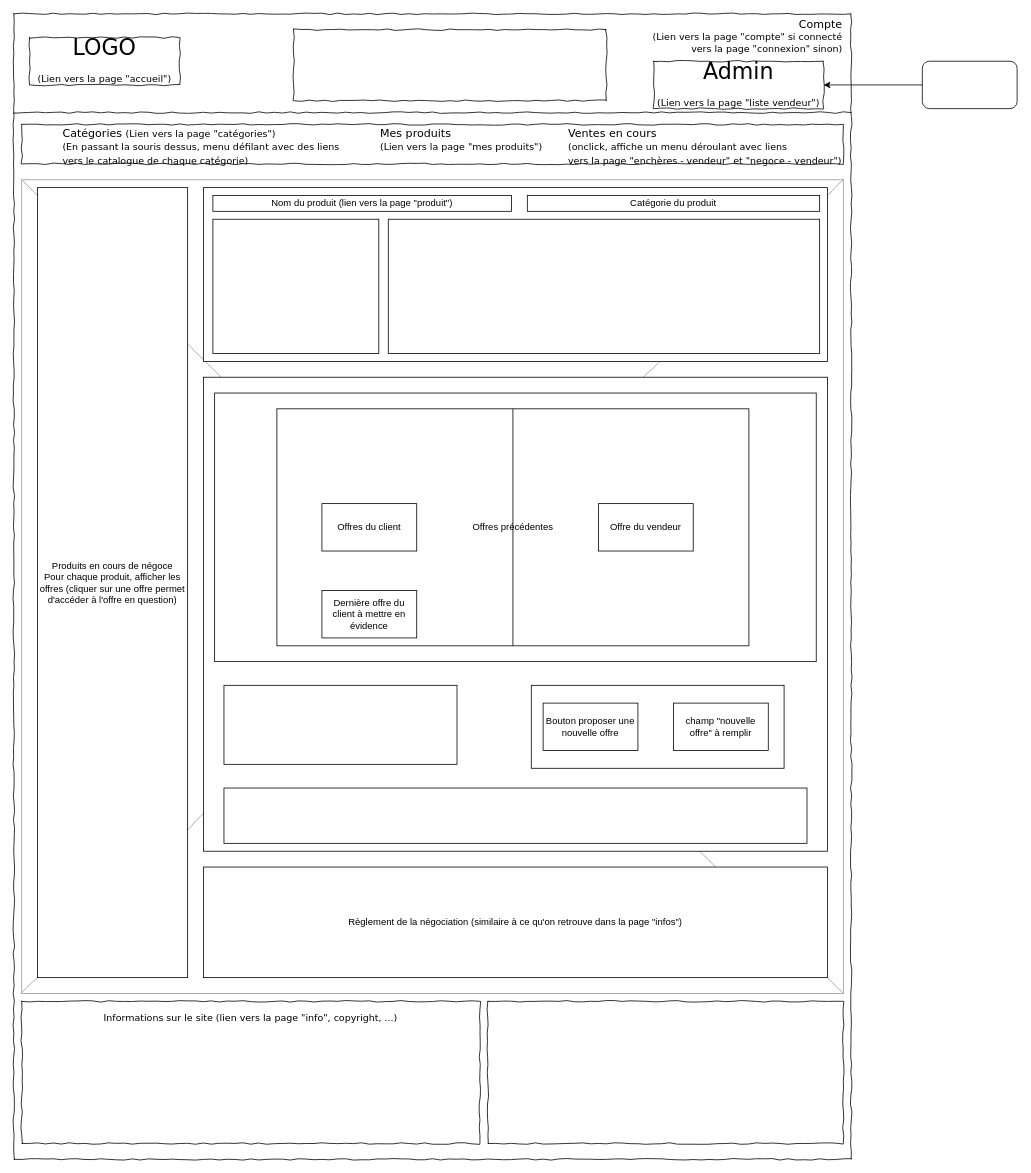
The diagram is 1031 pixels wide and 1173 high, and some of its shapes have lost their labels. The centre of each missing label's shape, as x and y in pixels:
Bienvenue ...: the point at 449,65
Bouton accepter l'offre: the point at 340,724
Bouton arrêter la négociation: the point at 515,815
description brève: the point at 603,286
Nous contacter: the point at 665,1072
photo du produit (lien vers page "produit"): the point at 295,286
Uniquement visible si le vendeur connecté est un admin: the point at 969,84
